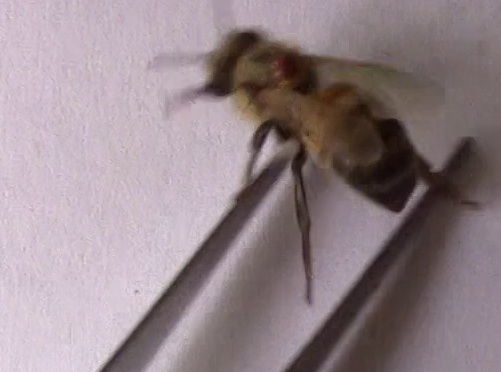Varroa destructor: (267, 54, 308, 87)
